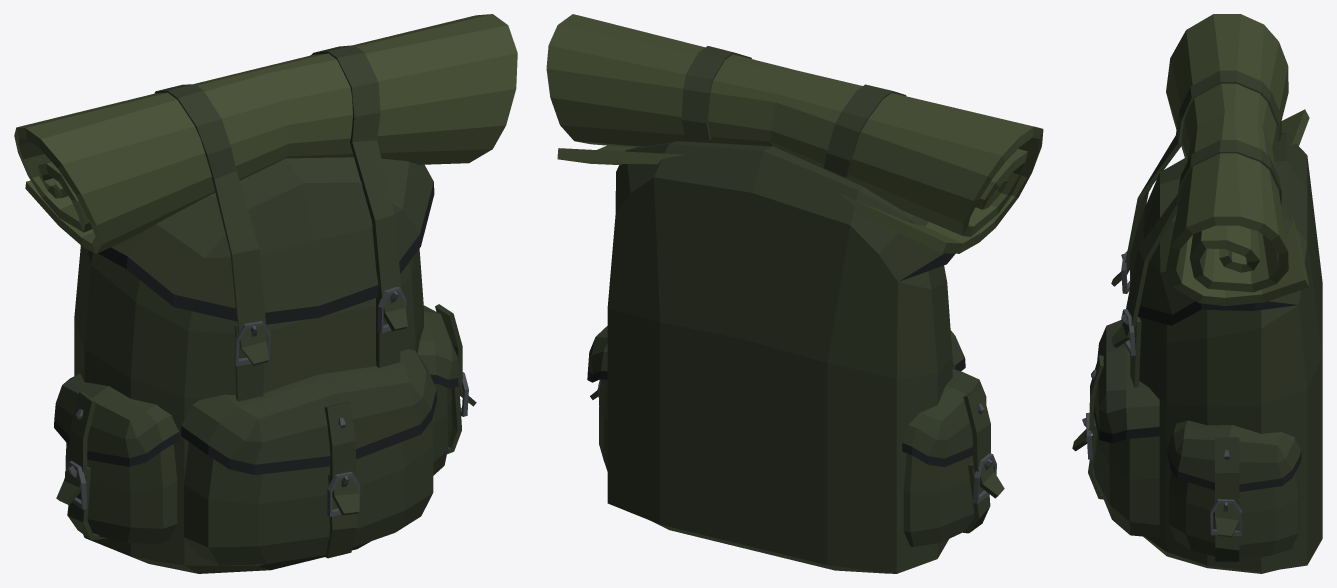
File: pack2.glb
3 renders of one model, left to right at view 1: azimuth 30°, elevation 25°; view 2: azimuth 150°, elevation 25°; view 3: azimuth 270°, elevation 25°, orthographic. The views are drawn at different scales.
Parts seen in each view (by area): view 1: item_pack2; view 2: item_pack2; view 3: item_pack2.
Boxes of the visible parts, <box> form: item_pack2: <box>14,14,517,573</box>; item_pack2: <box>546,14,1043,573</box>; item_pack2: <box>1072,14,1322,573</box>.
Bounding box in the file's own units: 0.5573 × 0.52 × 0.291.
